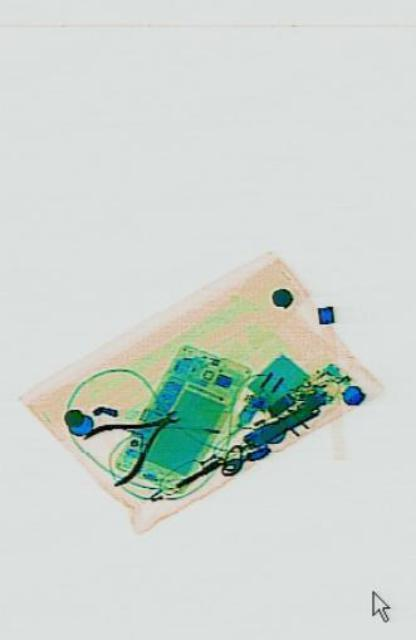Pliers: (80, 383, 185, 495)
